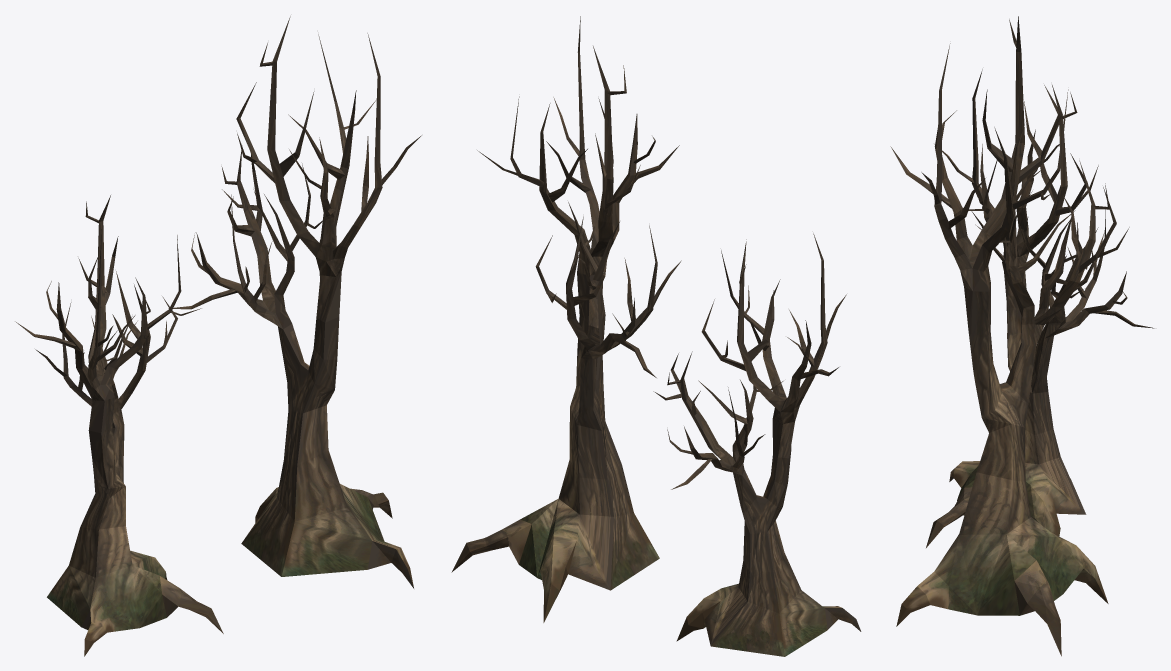
File: plants_tall_tree_trunks08.fbx
3 renders of one model, left to right at view 1: azimuth 30°, elevation 25°; view 2: azimuth 150°, elevation 25°; view 3: azimuth 270°, elevation 25°, orthographic. The views are drawn at different scales.
Visible parts, largest first — view 1: obj0.145; view 2: obj0.145; view 3: obj0.145.
Part boxes in pixels (bbox=[...]): obj0.145: bbox=[15, 16, 421, 656]; obj0.145: bbox=[451, 16, 861, 656]; obj0.145: bbox=[890, 16, 1154, 656].
Size of the model in its own units: 6.46 by 9.06 by 3.66.
